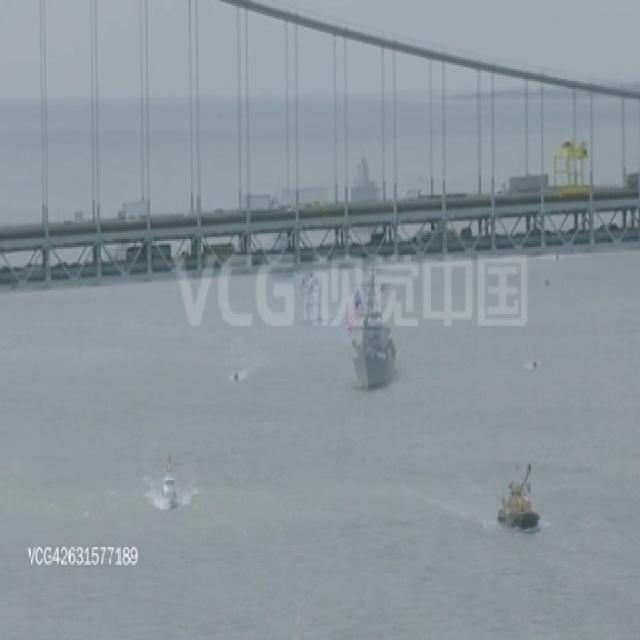houseboat: (495, 451, 541, 533), (157, 454, 178, 512)
navalvessels: (346, 262, 400, 396)
